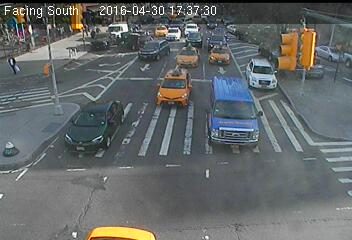neg: (82, 106, 95, 124), (252, 62, 265, 79), (214, 94, 227, 111), (159, 154, 172, 171), (40, 61, 52, 78), (165, 61, 176, 76)
pos: (3, 54, 18, 73), (87, 27, 95, 38), (94, 24, 102, 34)
